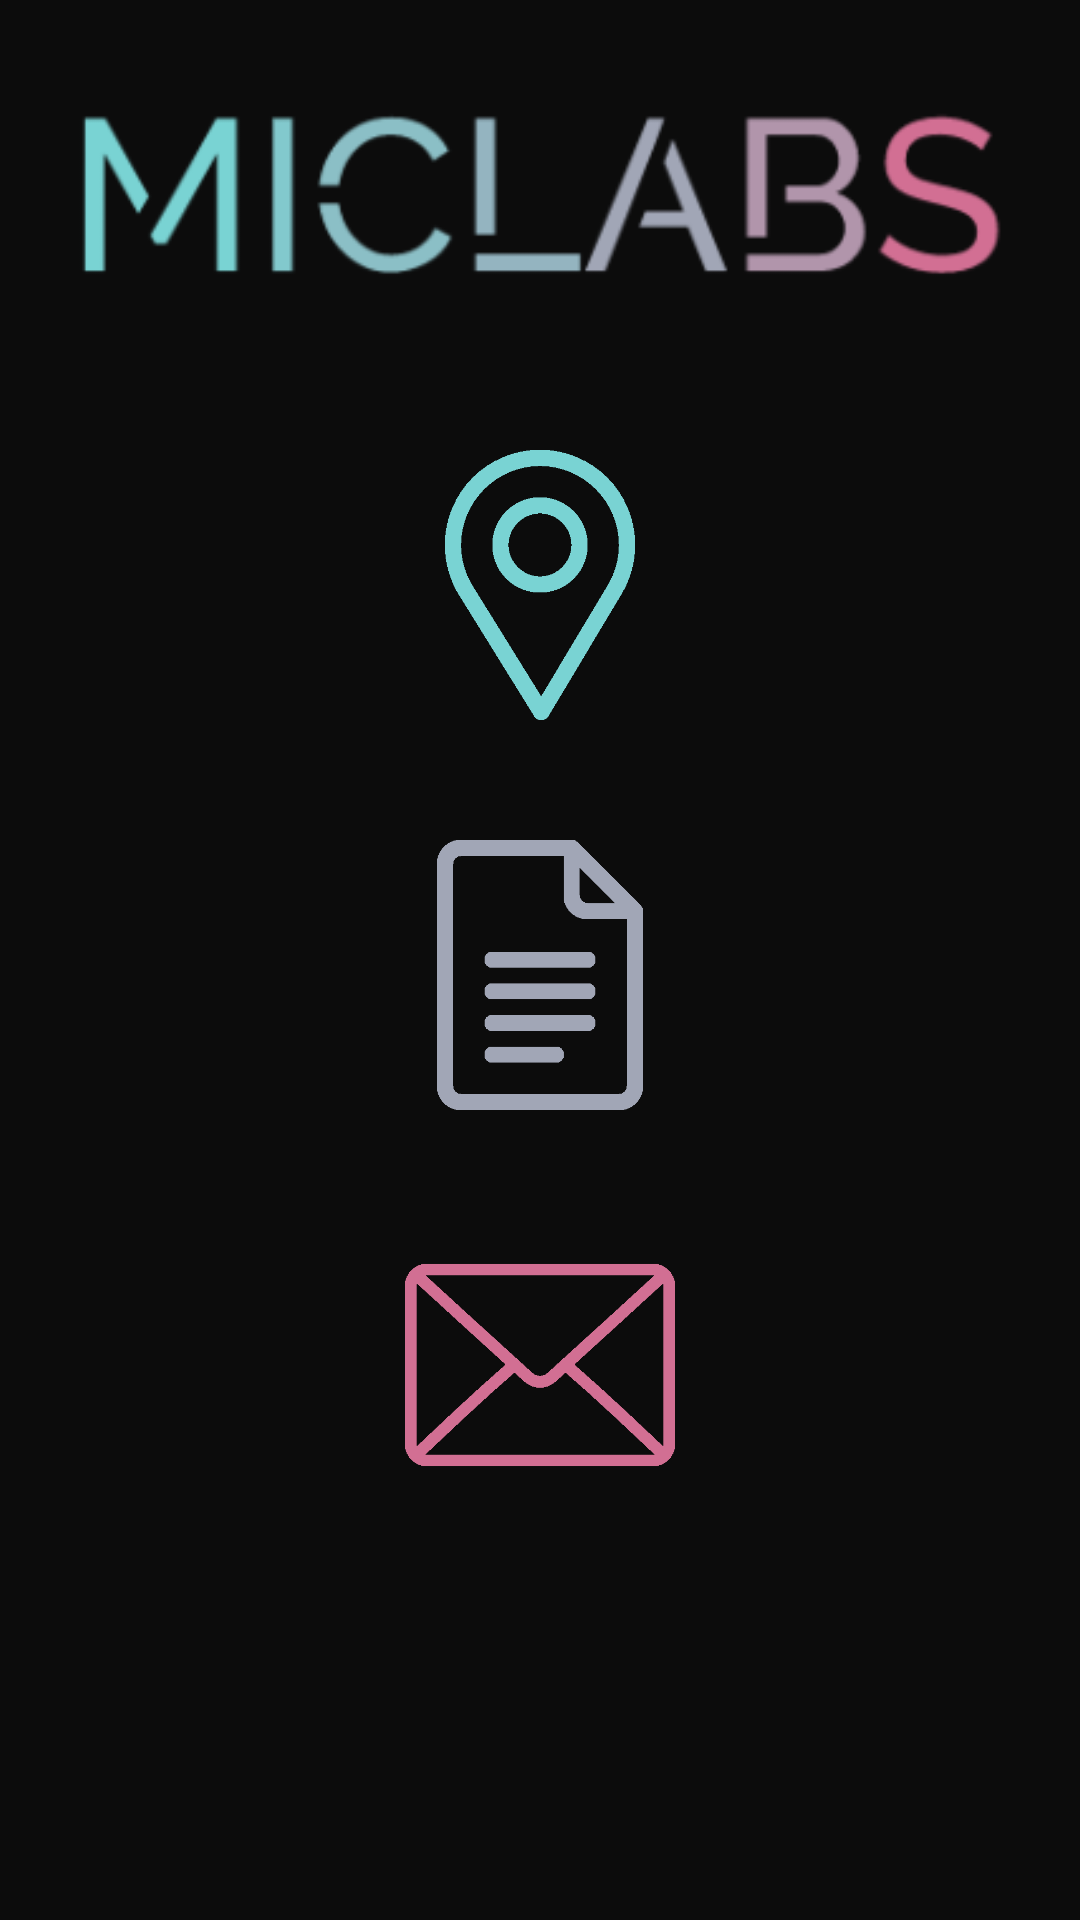

Point at icon controls on the screen. Image size 1080 x 1920, points as (x=x, y=y).
envelope rose: (x=540, y=1365)
google docs gris: (x=540, y=975)
